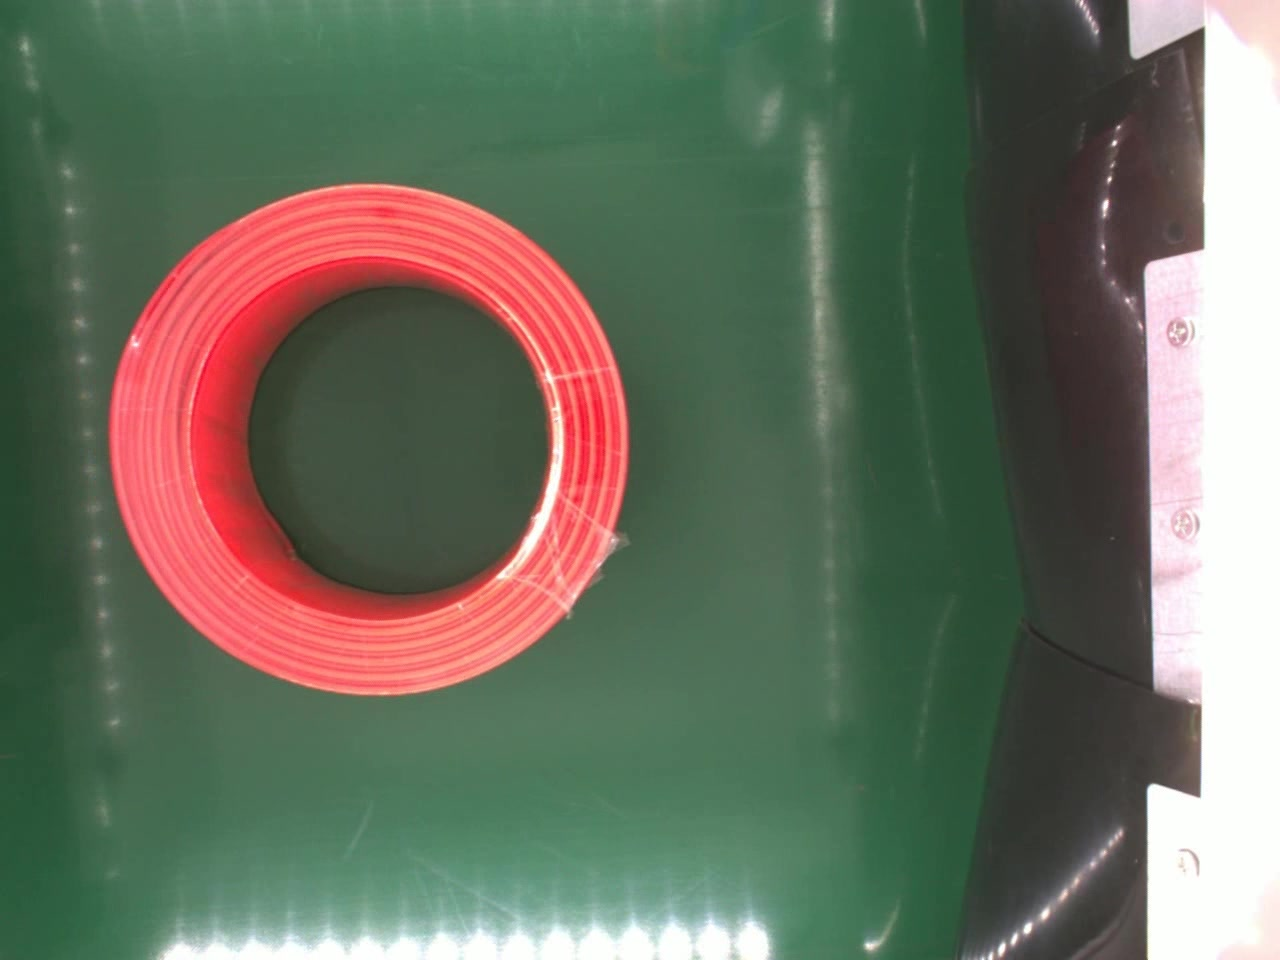red: (108, 179, 631, 698)
